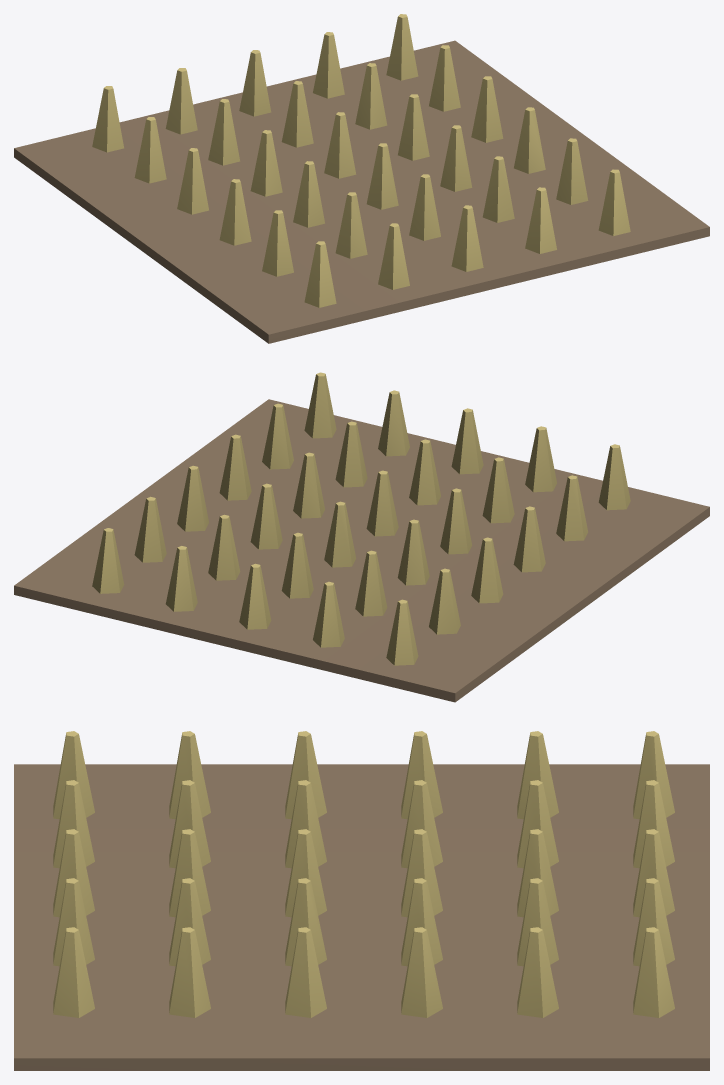
File: field.glb
3 renders of one model, top to bottom at view 1: azimuth 30°, elevation 25°; view 2: azimuth 150°, elevation 25°; view 3: azimuth 270°, elevation 25°, orthographic. The views are drawn at different scales.
Parts seen in each view (by area): view 1: field; view 2: field; view 3: field.
Boxes of the visible parts, x1=… form: field: x1=14, y1=14, x2=709, y2=343; field: x1=14, y1=372, x2=709, y2=702; field: x1=14, y1=731, x2=709, y2=1070.
Size of the model in its own units: 6 by 0.875 by 6.
